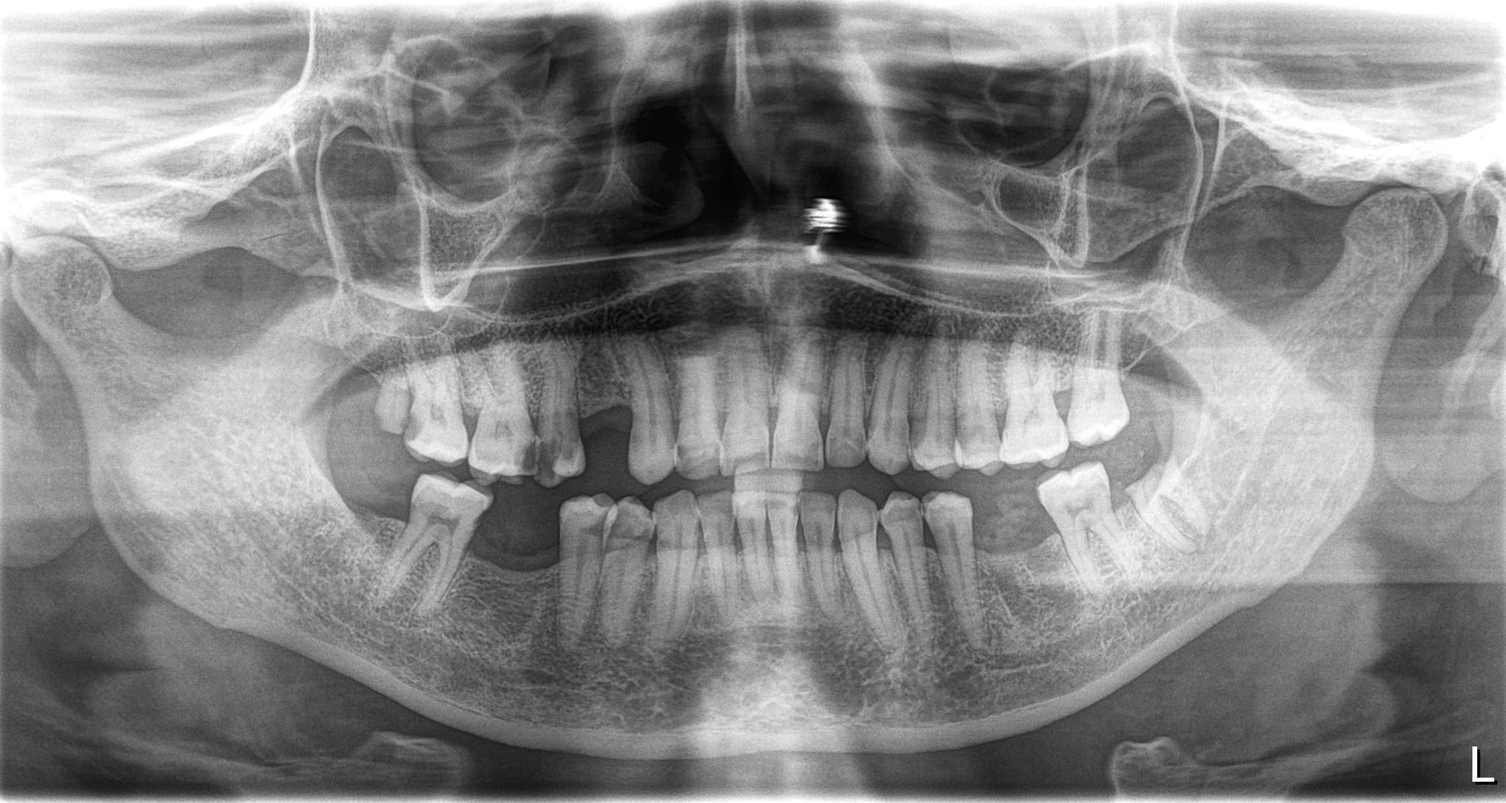Dental Caries: (518, 430, 571, 475)
Missing Tooth: (296, 454, 396, 606), (980, 503, 1066, 665), (485, 498, 567, 637), (1121, 325, 1198, 441), (574, 362, 632, 463)
Retained Root: (1121, 467, 1208, 590), (358, 345, 414, 444)
